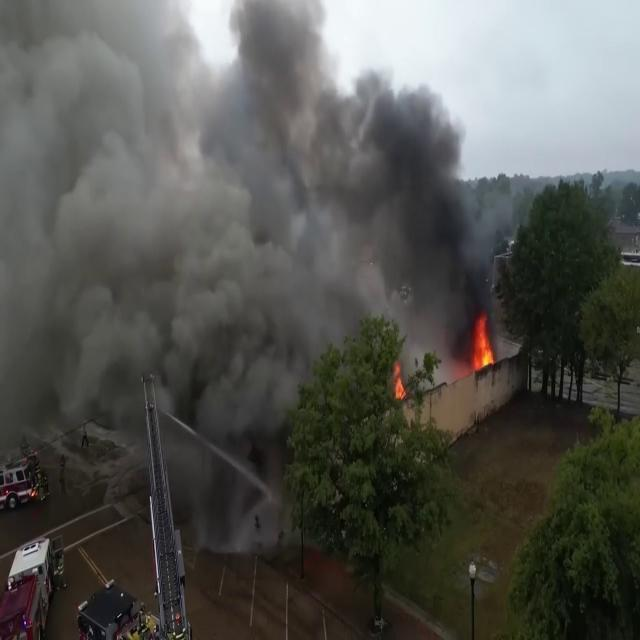Fire: (469, 310, 496, 376), (392, 360, 408, 404)
Smoke: (0, 2, 502, 528), (324, 42, 508, 340)
